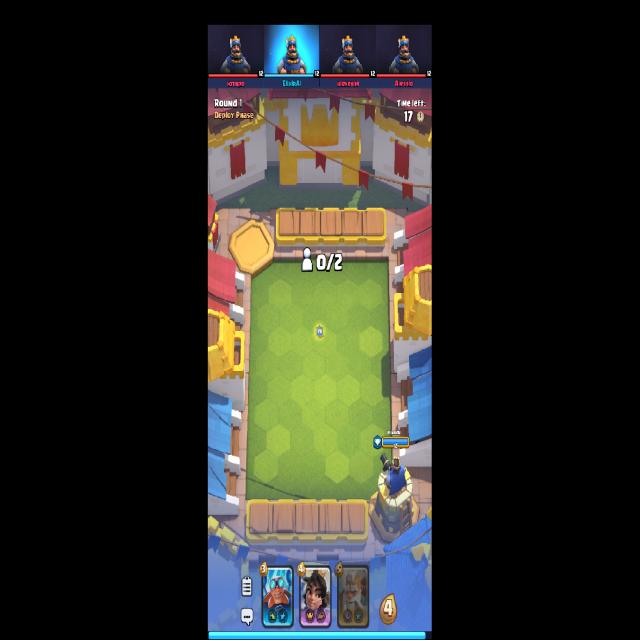card_electro_giant: (262, 566, 294, 630)
card_monk: (338, 566, 369, 628)
card_princess: (300, 565, 332, 626)
